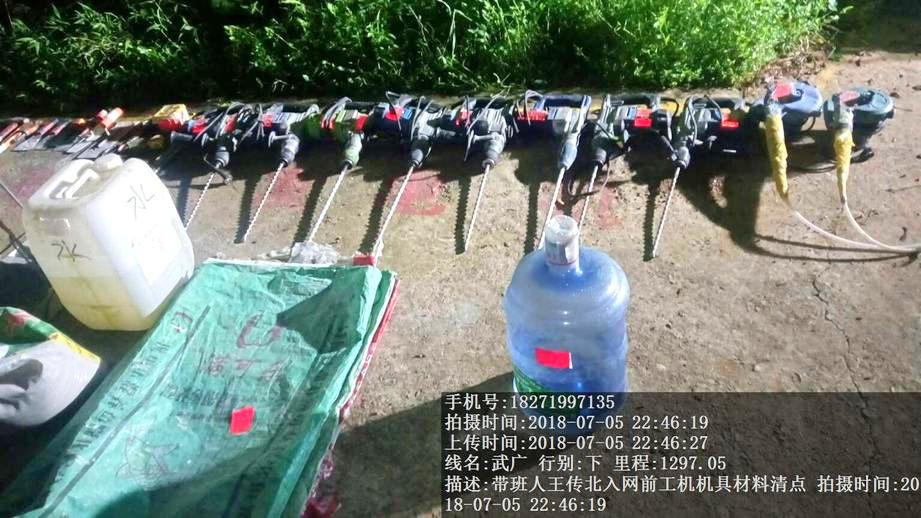BZD: (44, 254, 389, 509)
DZ: (662, 84, 744, 250), (584, 89, 664, 232), (506, 86, 583, 229), (454, 85, 516, 230), (398, 98, 454, 221)
GFJ: (826, 79, 903, 240), (755, 68, 825, 240)
